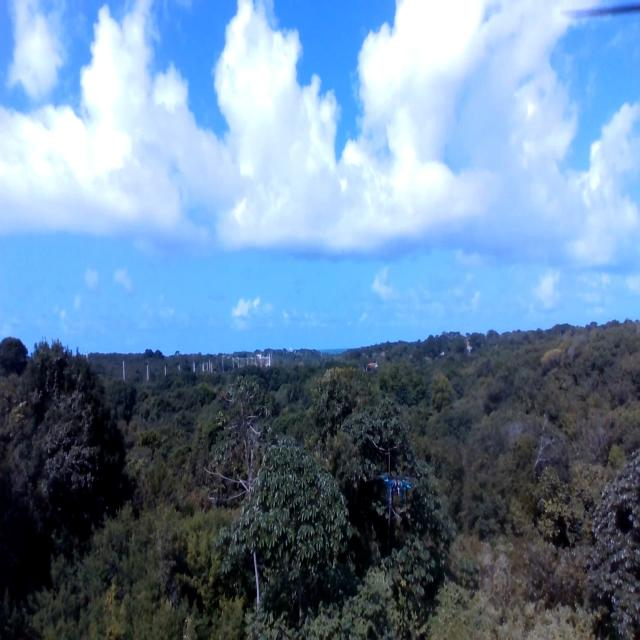-uav-: (376, 462, 422, 532)
